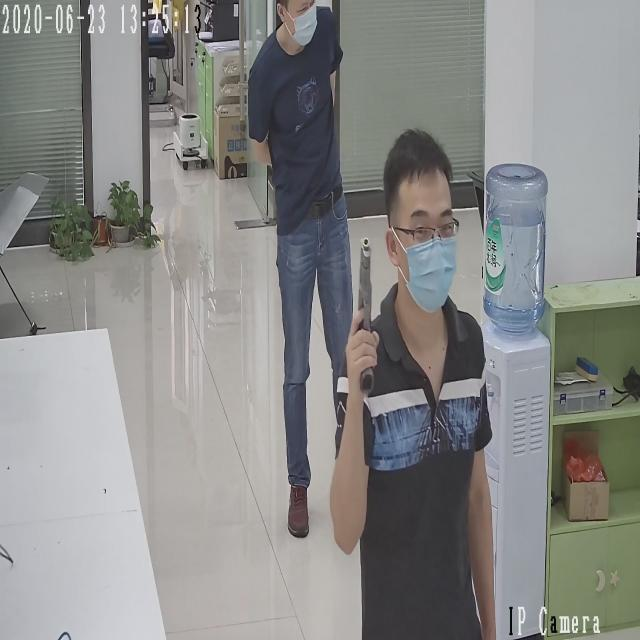gun-knife-thesis - v11 Yolov5 augmented: (342, 229, 378, 398)
